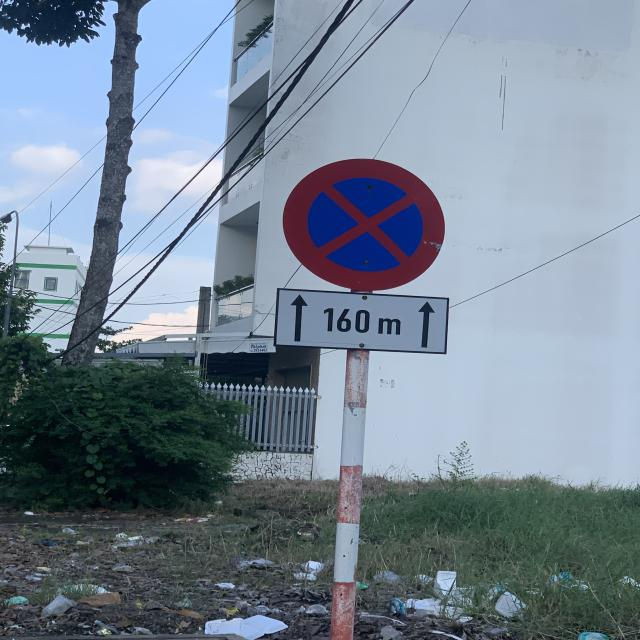Cam_Dung_Va_Dau_Xe: (280, 158, 449, 293)
